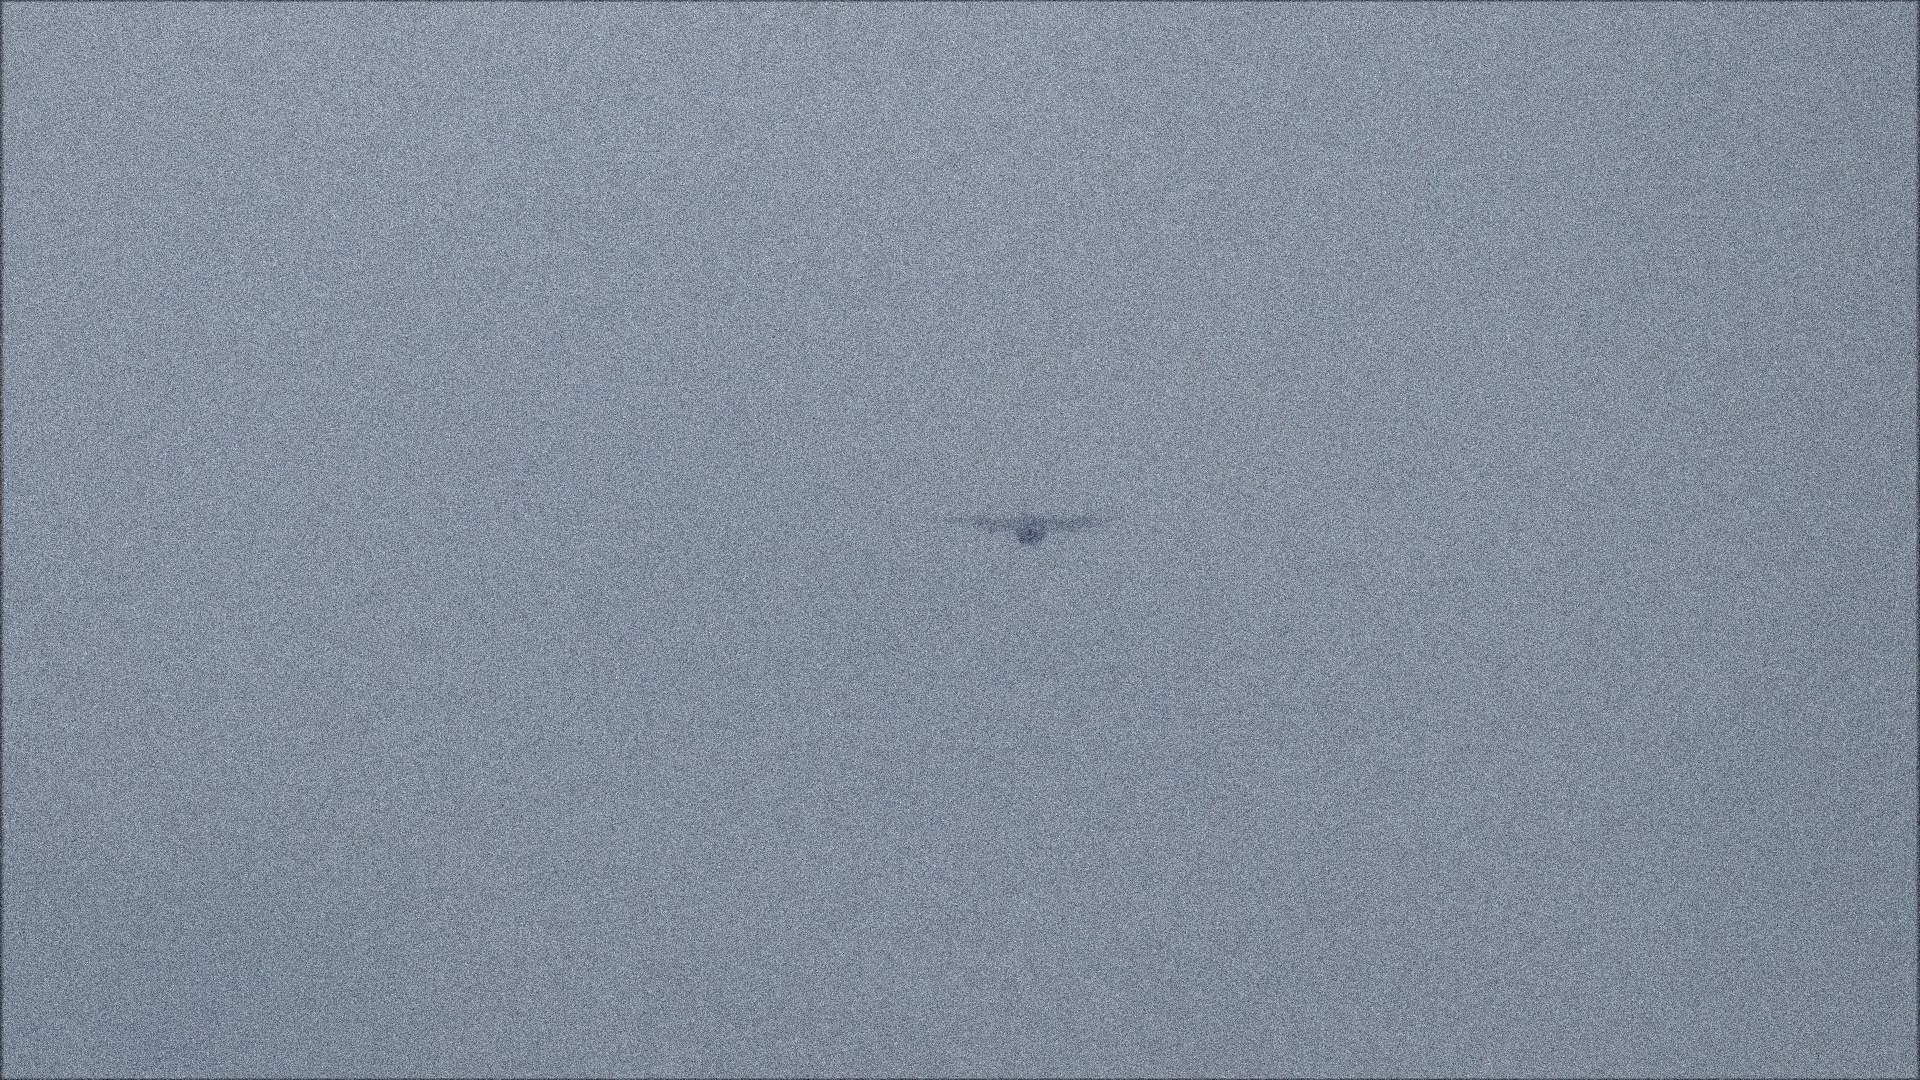Airplane: (945, 502, 1112, 545)
